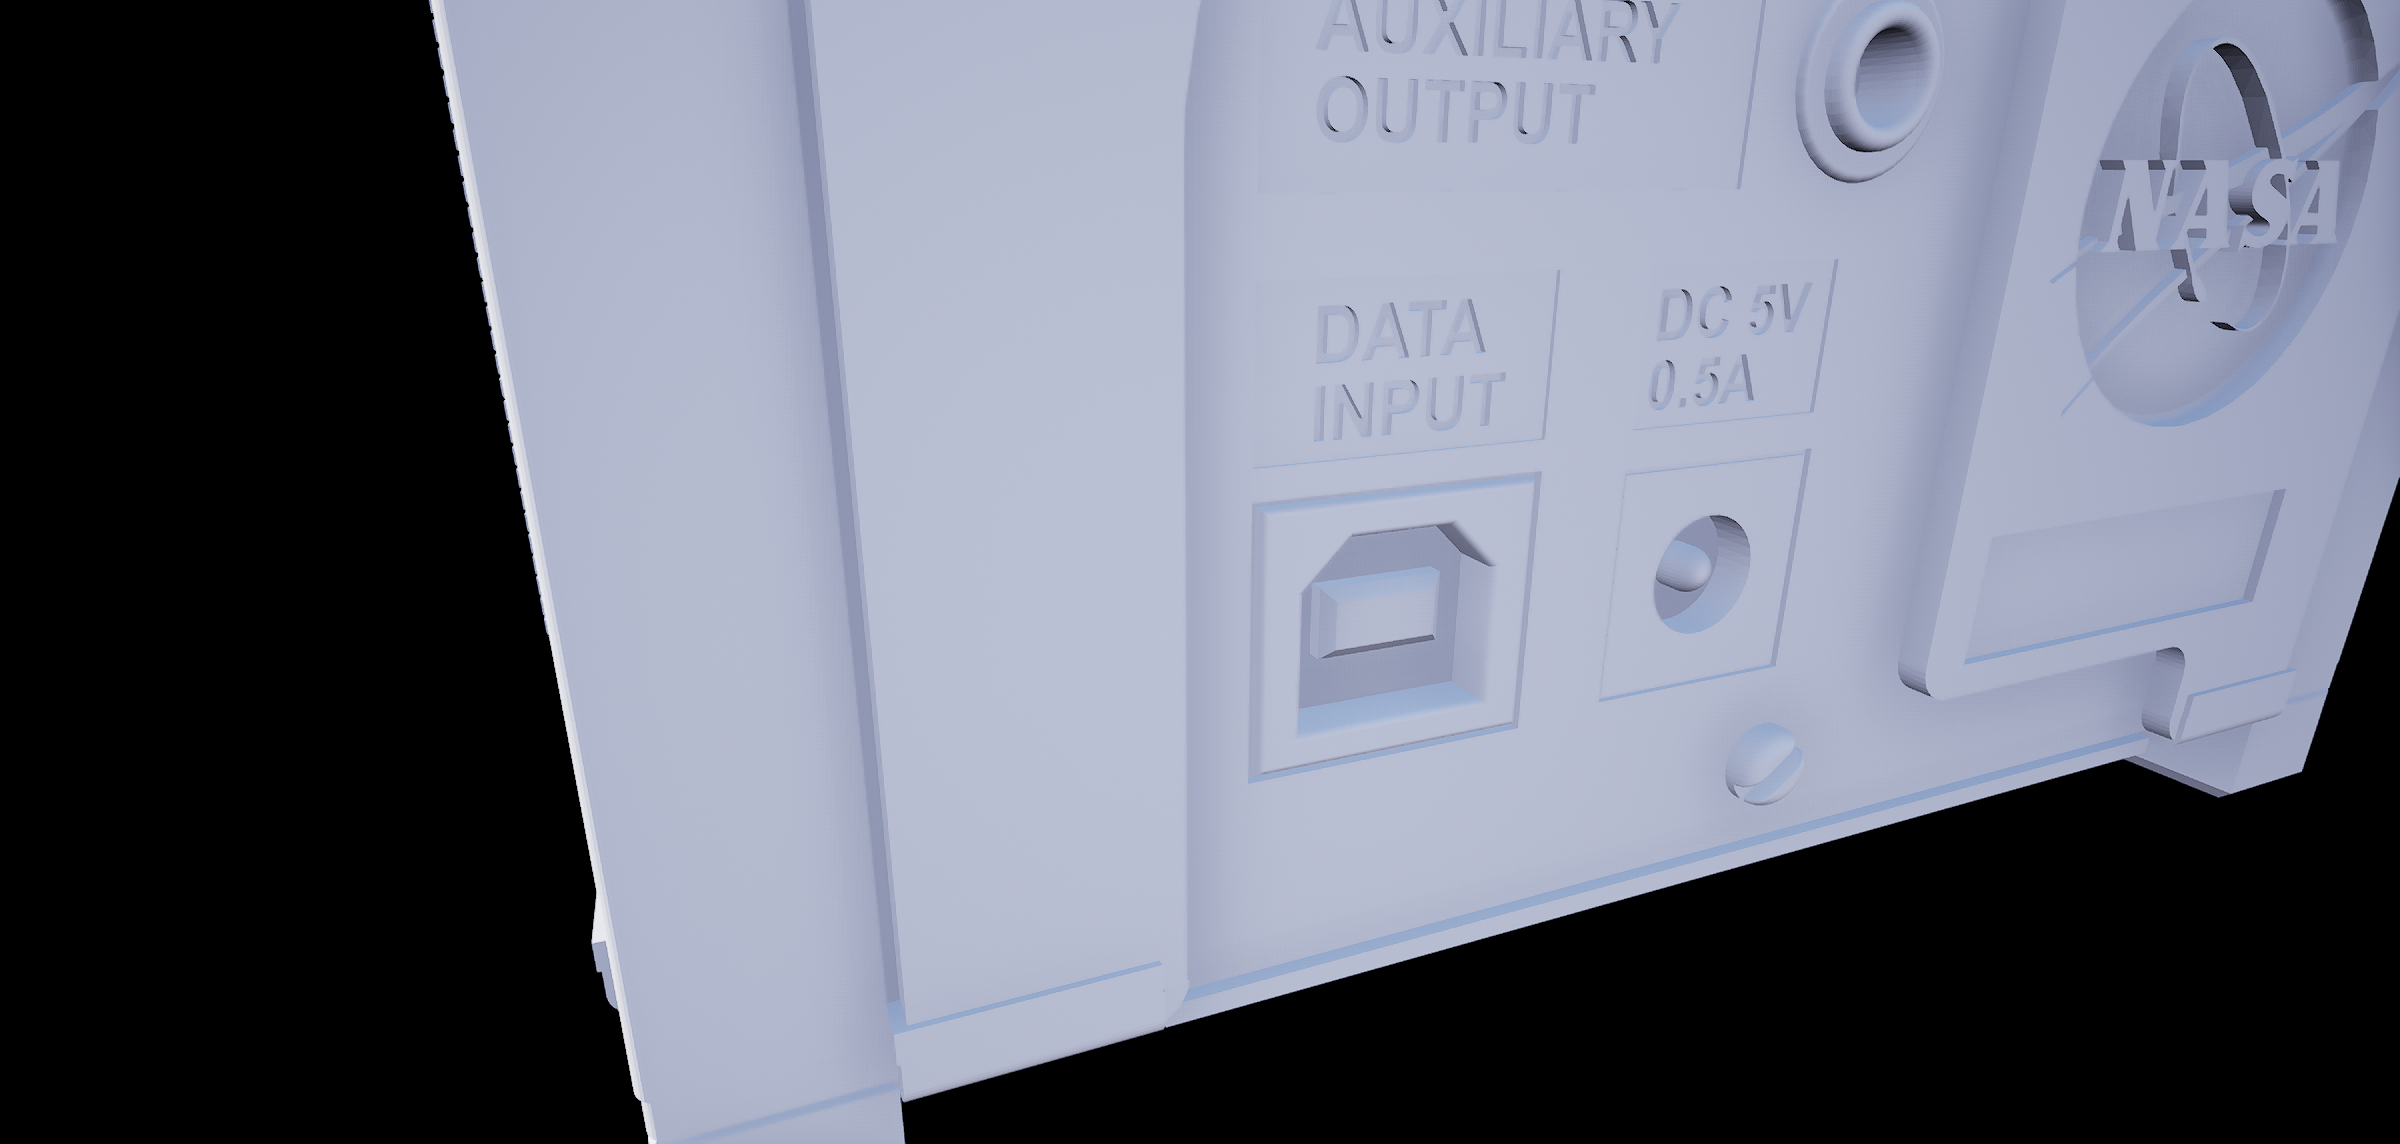aux: (1782, 2, 1950, 181)
dc: (1636, 510, 1756, 637)
usb: (1299, 521, 1508, 724)
